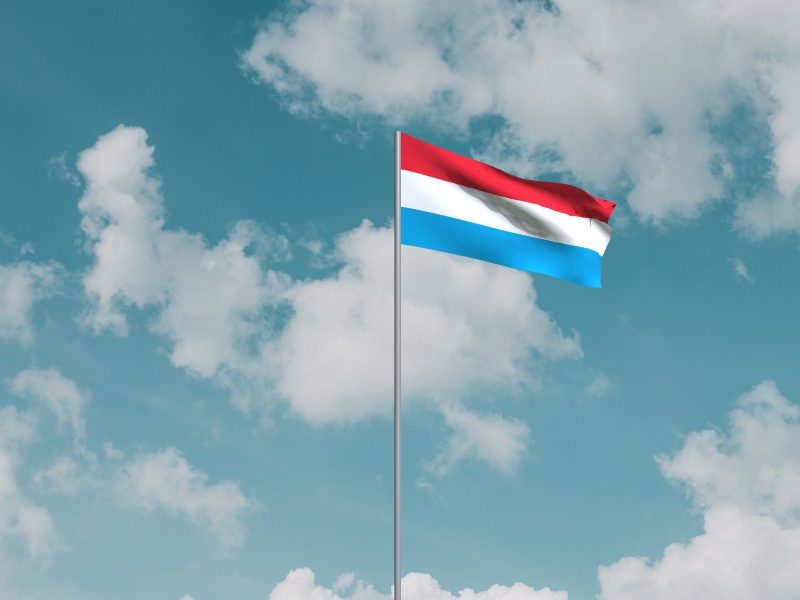lu: (402, 133, 619, 290)
